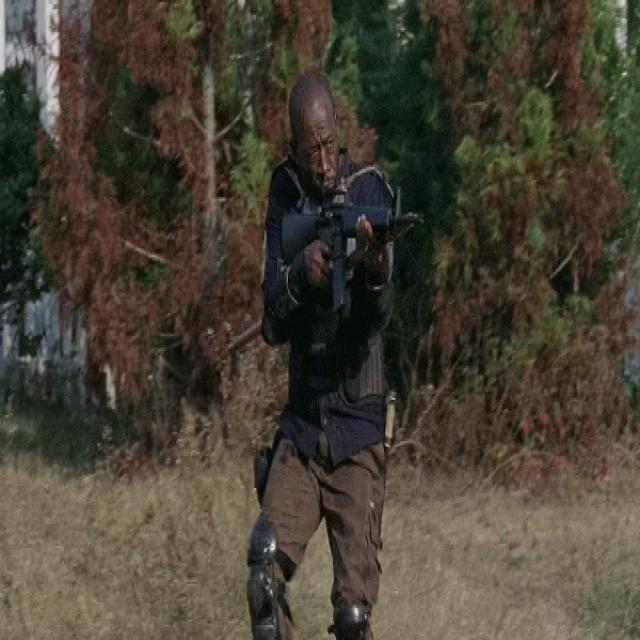rifle: (276, 179, 423, 328)
